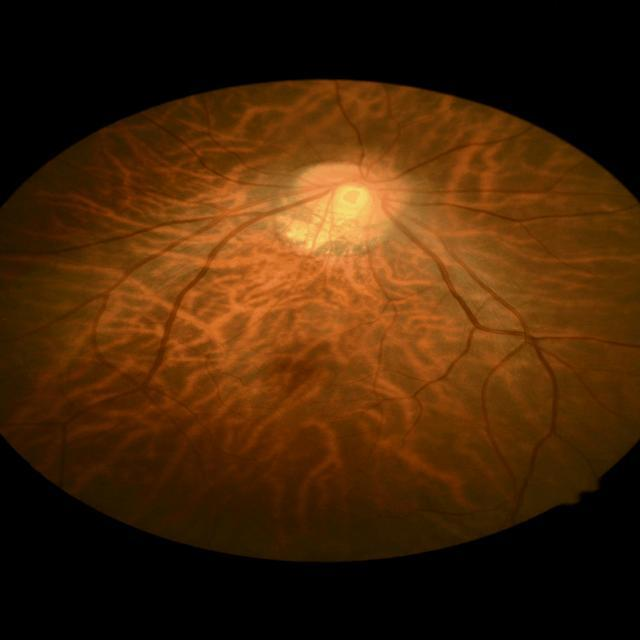cup: (326, 180, 379, 210)
disk: (293, 160, 413, 226)
